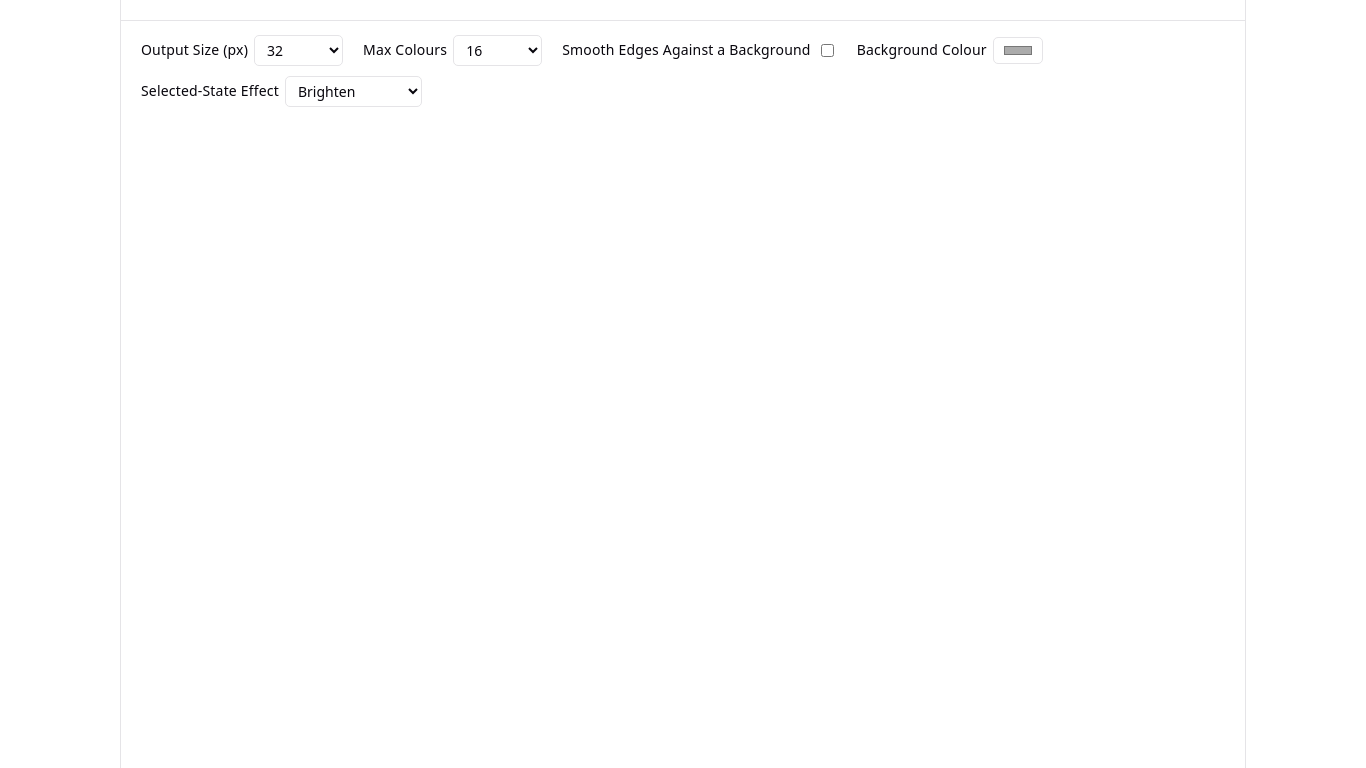
Scenario: preset pickers › reveals a number field when Custom is picked, without changing the value yet
The image size is (1366, 768).
Select "Custom" in the dropdown labelled "Output Size (px)" at (298, 50), box [254, 35, 343, 66]
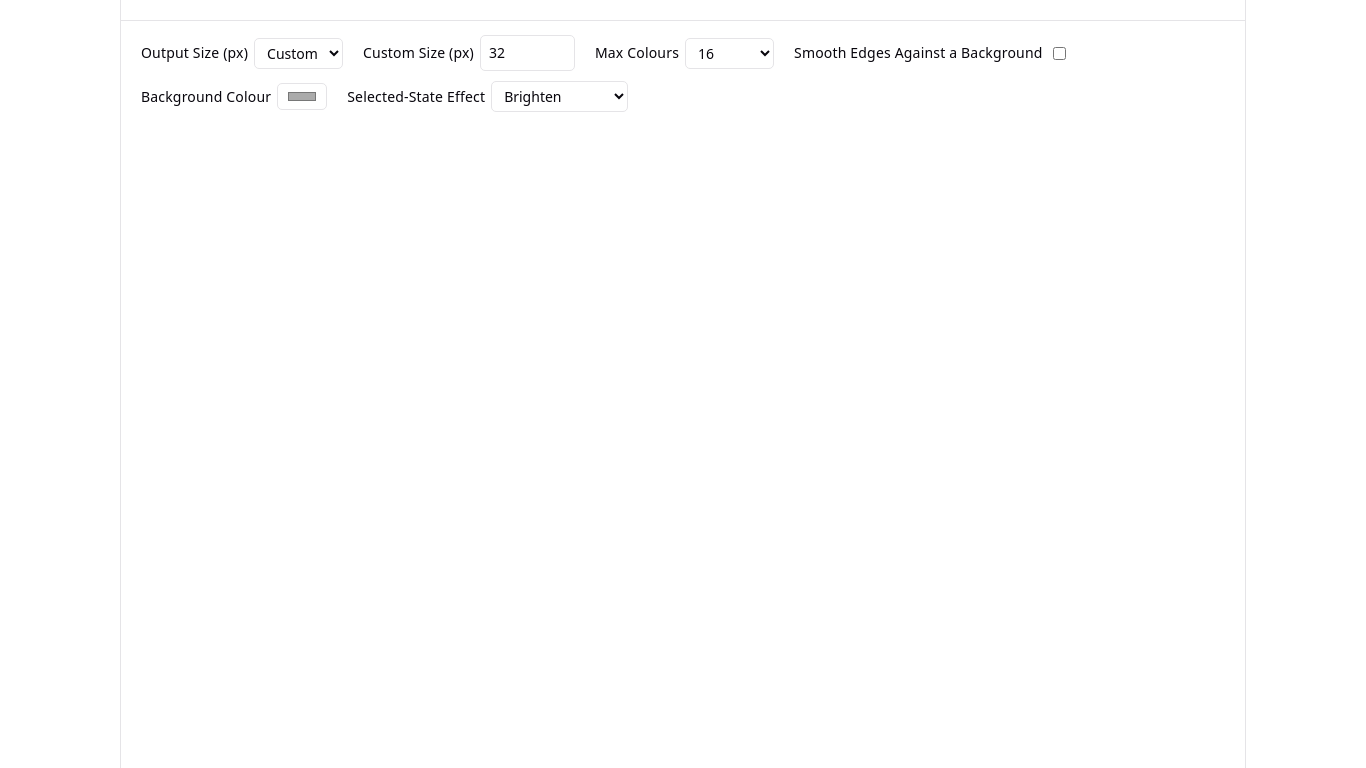
Expected: the number field labelled "Custom Size (px)" holds "32", [480, 35, 575, 71]
